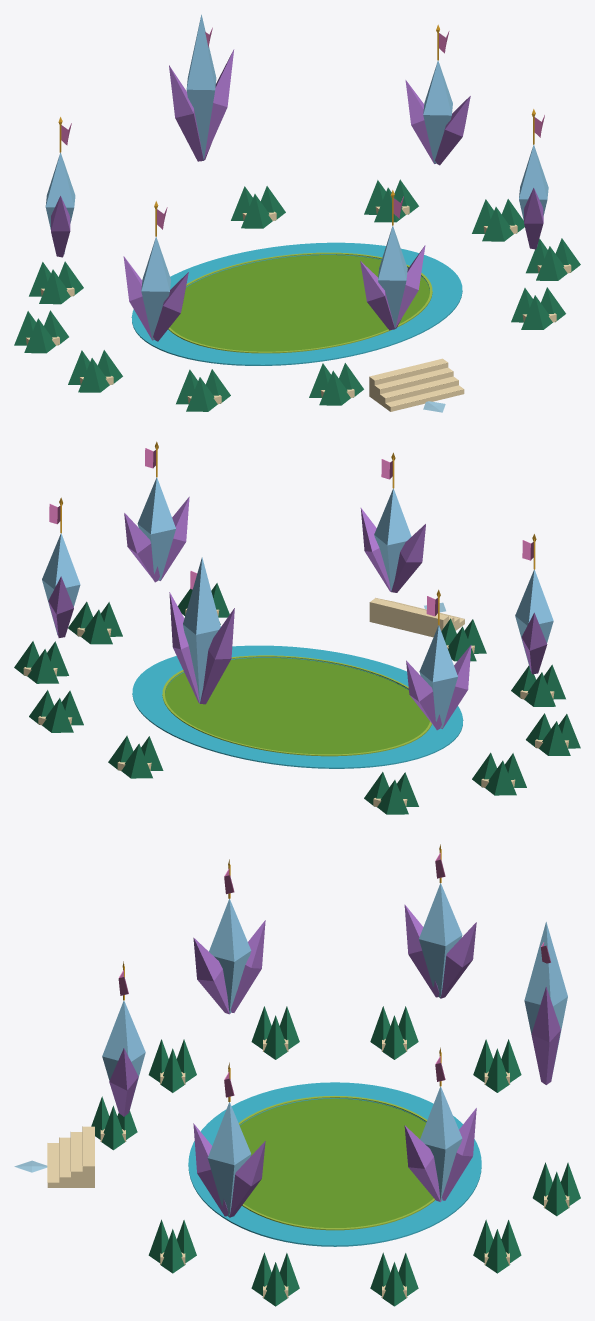
File: decoration.glb
3 views of the same model, one above another, from view 1: azimuth 30°, elevation 25°; view 2: azimuth 150°, elevation 25°; view 3: azimuth 270°, elevation 25° (orthographic). The views are drawn at different scales.
Visible parts, largest first — view 1: 08_R2B_Stadium_CrystalCrownsAndEntrance, 08_R2B_Stadium_TrackAndField; view 2: 08_R2B_Stadium_CrystalCrownsAndEntrance, 08_R2B_Stadium_TrackAndField; view 3: 08_R2B_Stadium_CrystalCrownsAndEntrance, 08_R2B_Stadium_TrackAndField.
Boxes of the visible parts, x1,y1,x2,y2 form: 08_R2B_Stadium_CrystalCrownsAndEntrance: [14, 14, 580, 412]; 08_R2B_Stadium_TrackAndField: [131, 242, 462, 365]; 08_R2B_Stadium_CrystalCrownsAndEntrance: [14, 441, 580, 814]; 08_R2B_Stadium_TrackAndField: [132, 645, 463, 768]; 08_R2B_Stadium_CrystalCrownsAndEntrance: [14, 844, 580, 1306]; 08_R2B_Stadium_TrackAndField: [188, 1082, 481, 1246].
Bounding box in the file's own units: 1.74 × 0.732 × 1.53.
